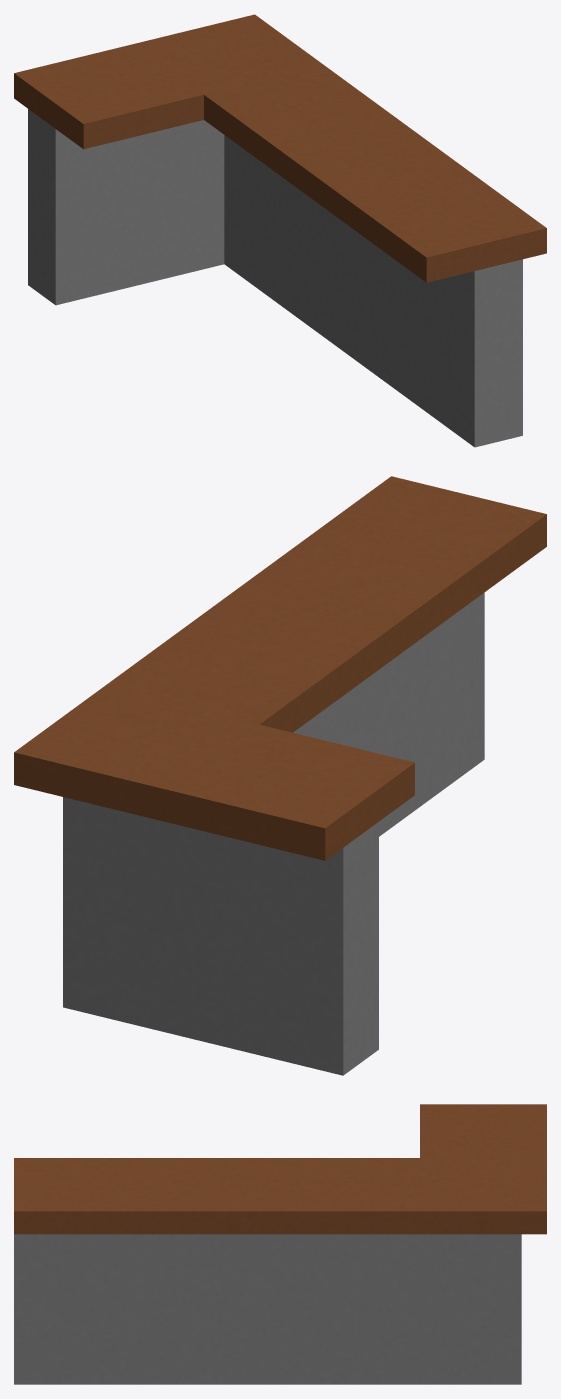
The model's file is counter.fbx.
The picture shows the model from 3 angles, top to bottom: view 1: azimuth 30°, elevation 25°; view 2: azimuth 150°, elevation 25°; view 3: azimuth 270°, elevation 25°; orthographic projection. The views are drawn at different scales.
Parts seen in each view (by area): view 1: Cube; view 2: Cube; view 3: Cube.
Part boxes in pixels (x1,y1,x2,y2): Cube: (14, 14, 546, 447); Cube: (14, 476, 546, 1075); Cube: (14, 1104, 546, 1384).
Bounding box in the file's own units: 125 × 100 × 263.
